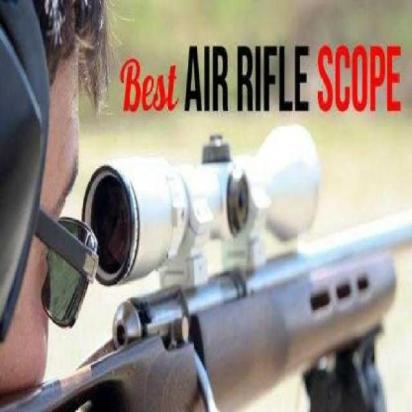Gun: (0, 116, 405, 411)
